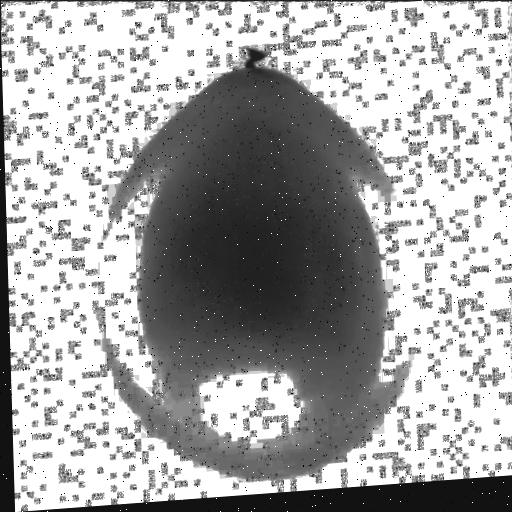balloon: (79, 28, 440, 501)
